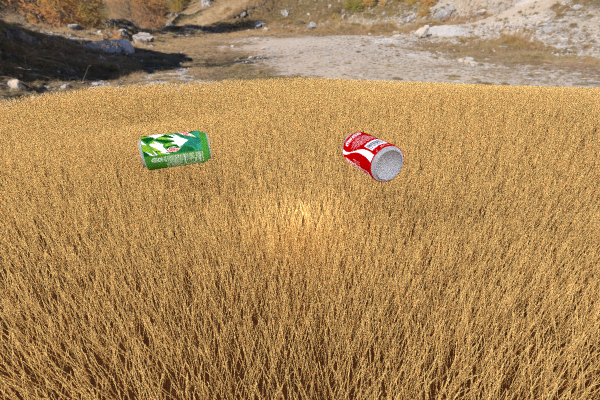Plastic Bottle: (186, 101, 273, 140), (342, 131, 403, 182), (138, 130, 211, 170)
